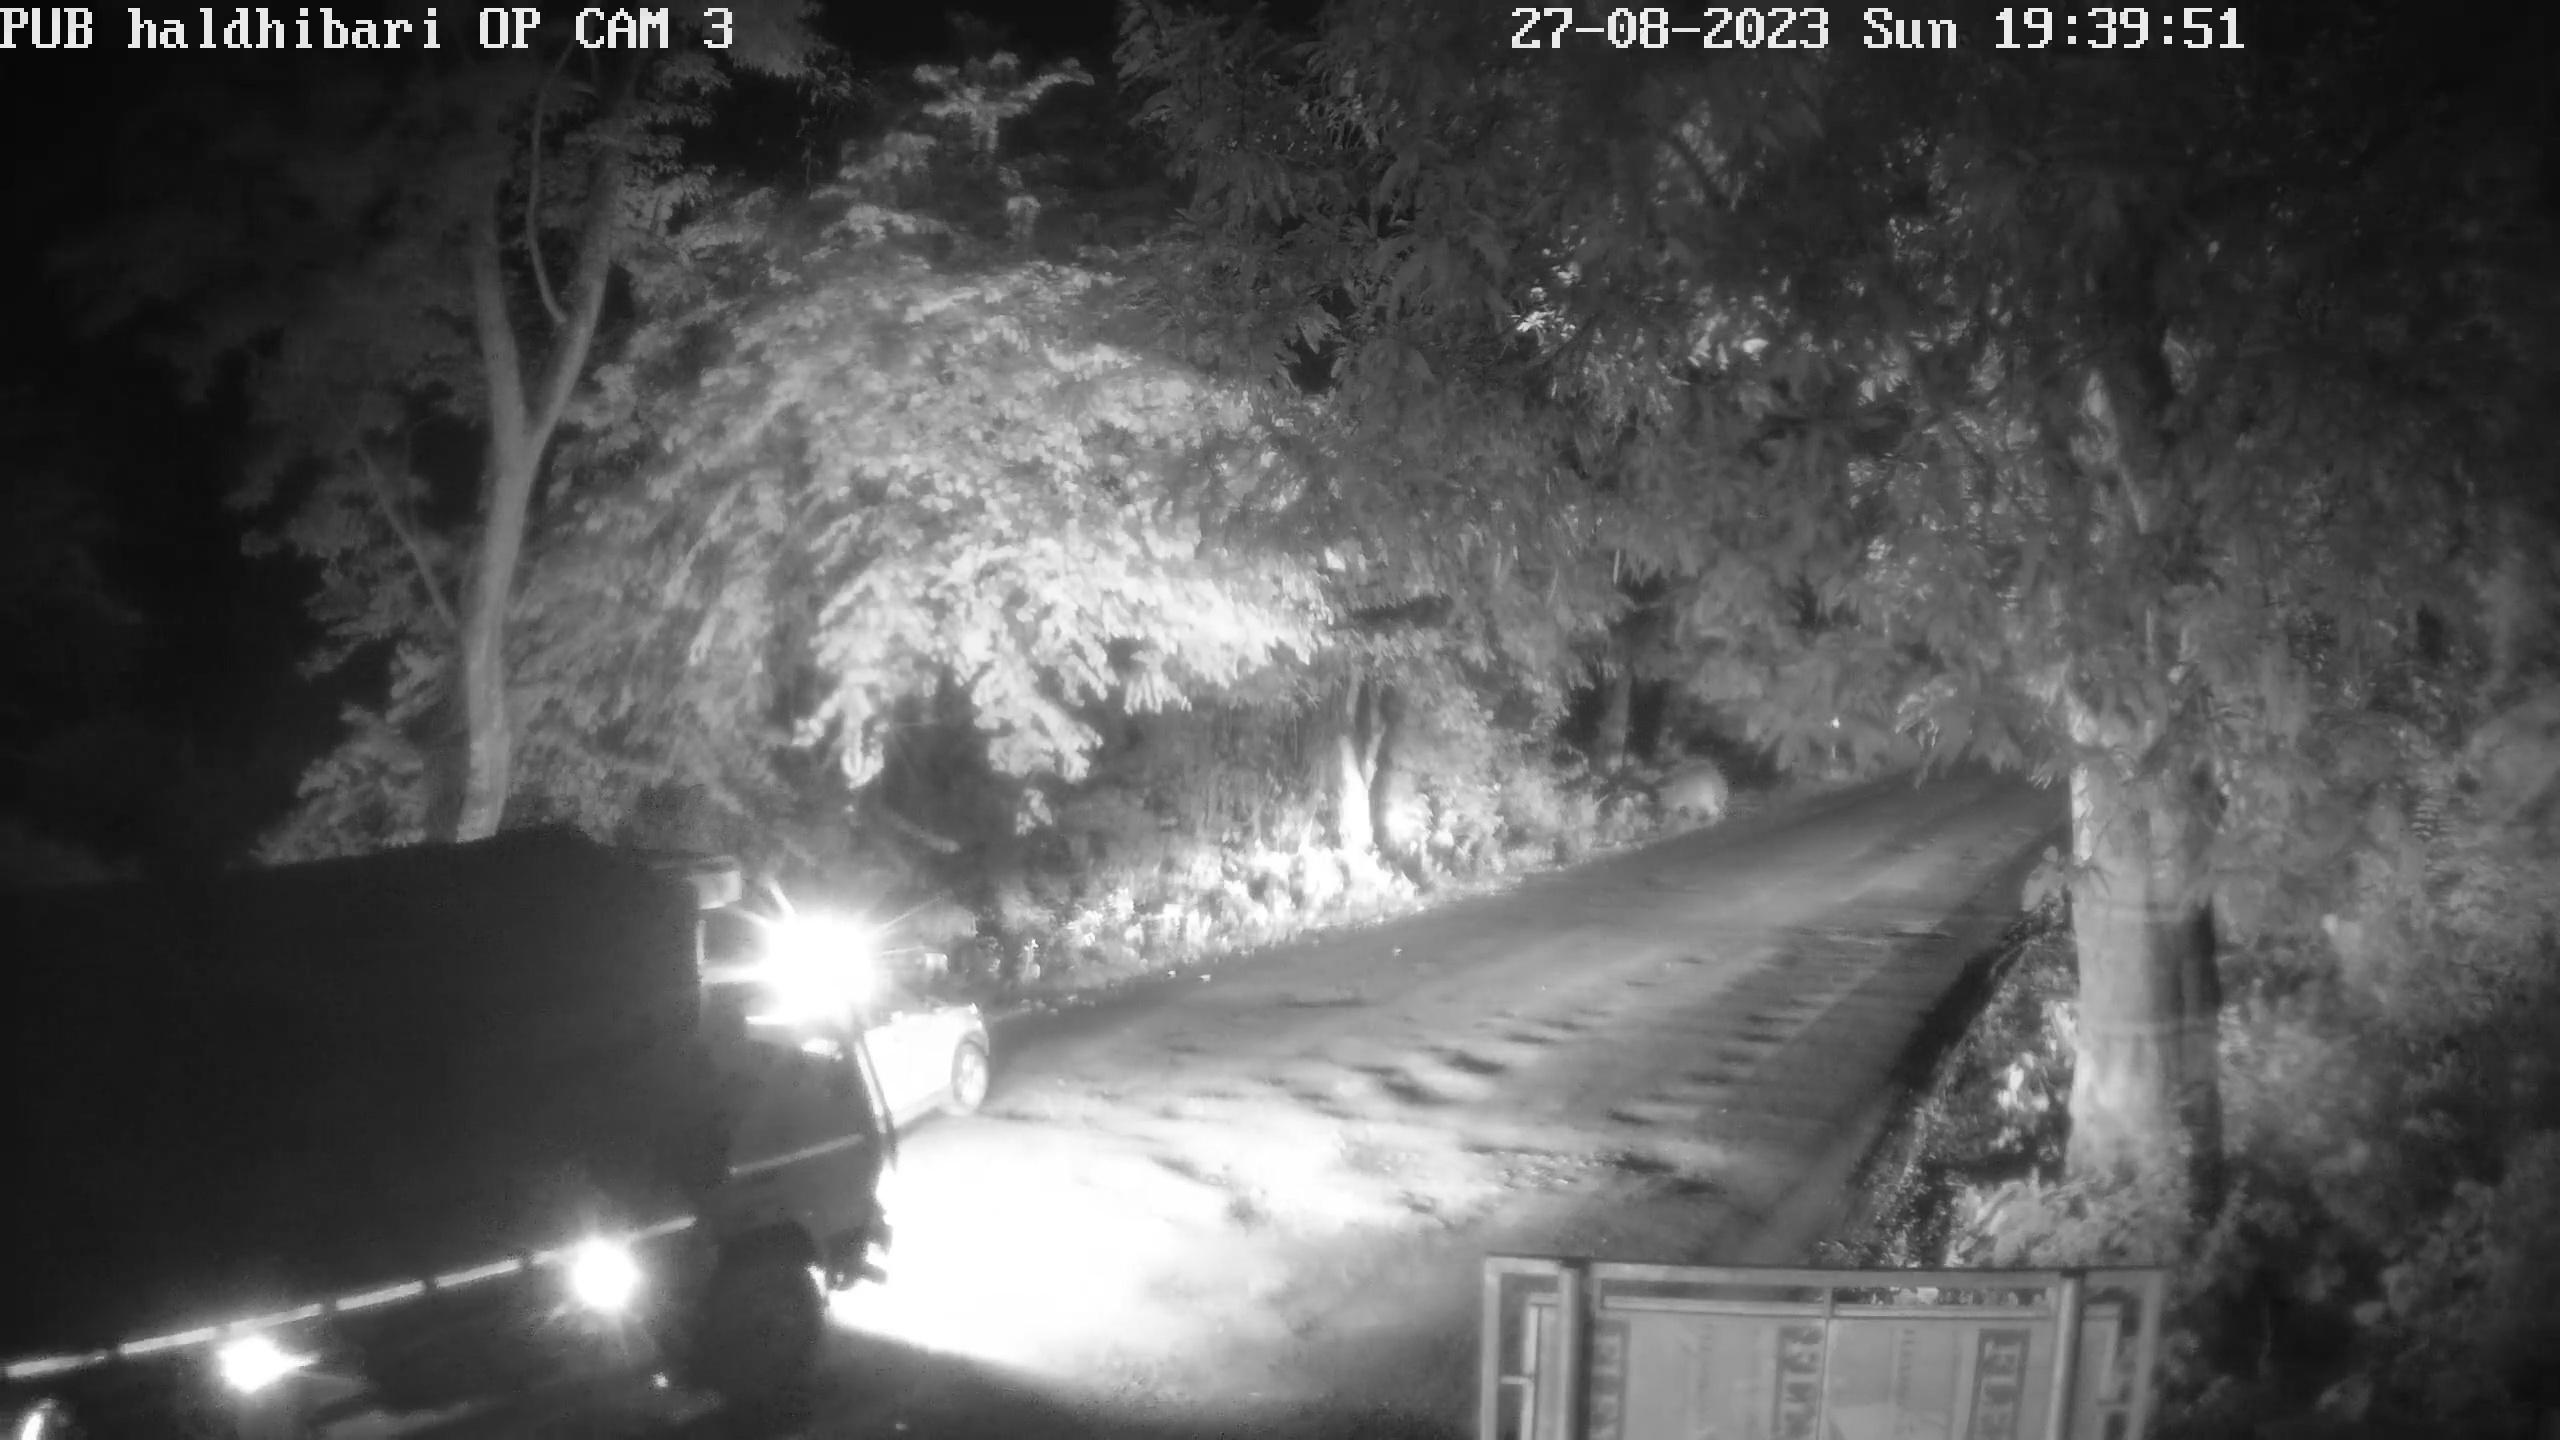rhinos: (1640, 761, 1739, 828)
